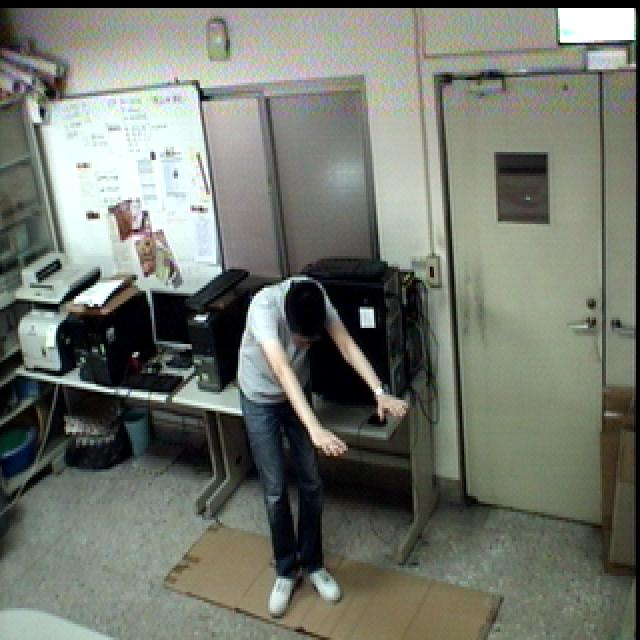bend: (234, 270, 413, 626)
